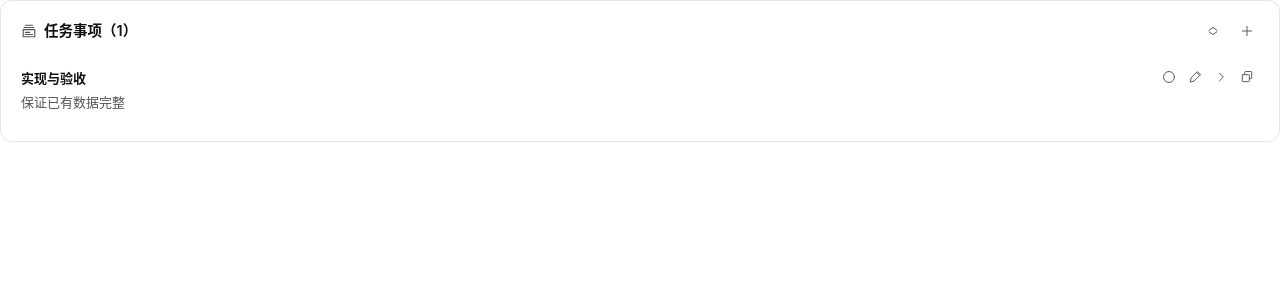
Test: refreshes external edits while preserving a conflicting draft and prevents overwriting the newer version
The image size is (1280, 295).
Expected: the element "实现与验收" is shown, 21,55 -> 1259,123
Click the button named "编辑事项：实现与验收" at (1195, 77), box 1183,65 -> 1207,89
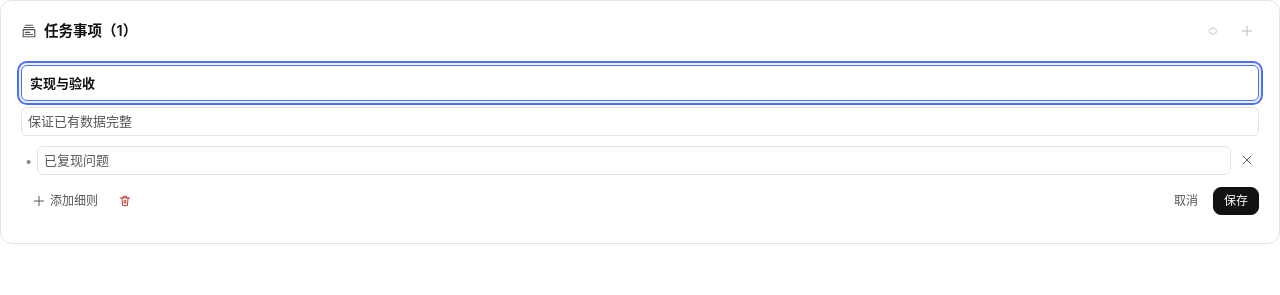
Replace the text in the field named "事项标题" with "本地草稿" at (640, 83), box 21,65 -> 1259,101
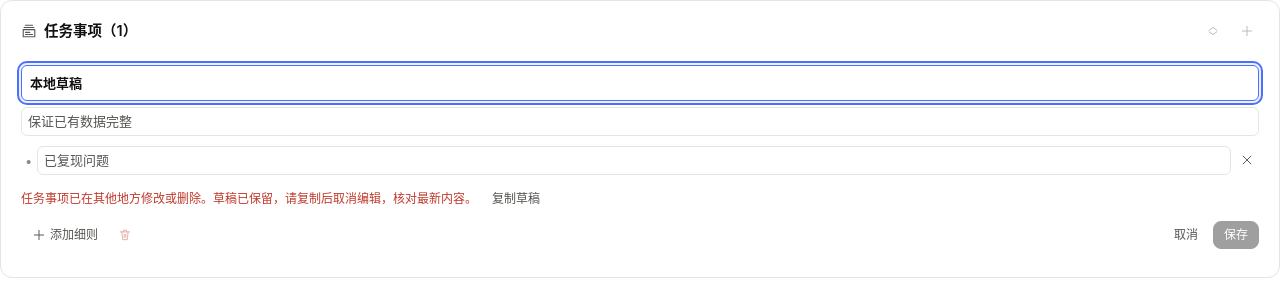
Expected: the button "保存" is disabled, 1213,221 -> 1259,249
Expected: the button "复制草稿" is shown, 481,185 -> 551,213
Click the button "取消" at (1186, 235), box 1163,221 -> 1209,249
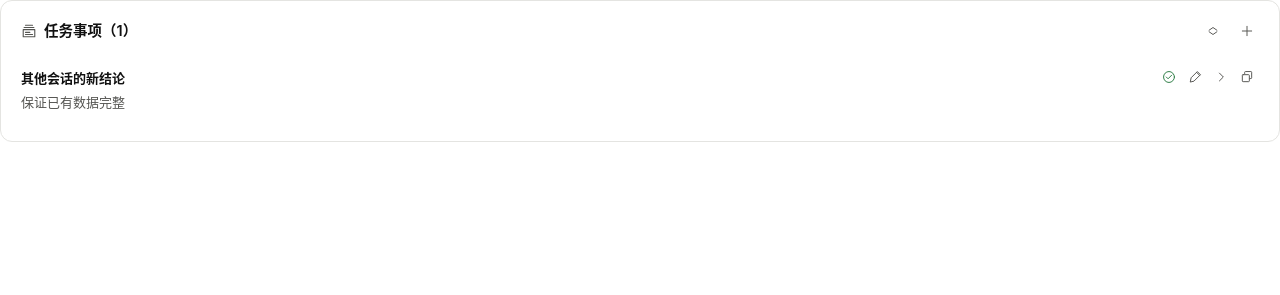
Expected: the element "其他会话的新结论" is shown, 21,55 -> 1259,123
Expected: the heading "其他会话的新结论" is shown, 21,70 -> 125,86
